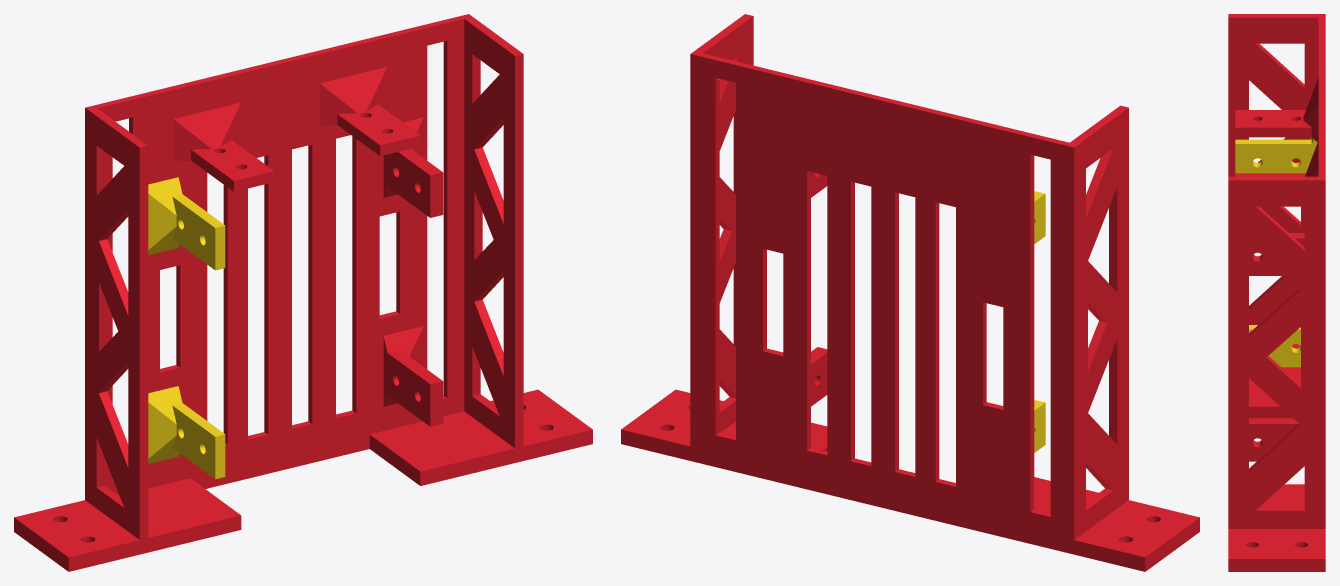
The model's file is tinker.obj.
3 views of the same model, side by side, from view 1: azimuth 30°, elevation 25°; view 2: azimuth 150°, elevation 25°; view 3: azimuth 270°, elevation 25° (orthographic). The views are drawn at different scales.
Parts seen in each view (by area): view 1: group_0_15277357, group_0_16768282; view 2: group_0_15277357, group_0_16768282; view 3: group_0_15277357, group_0_16768282.
Boxes of the visible parts, bbox=[...] form: group_0_15277357: bbox=[14, 14, 592, 571]; group_0_16768282: bbox=[148, 177, 225, 479]; group_0_15277357: bbox=[621, 14, 1199, 571]; group_0_16768282: bbox=[1034, 191, 1045, 452]; group_0_15277357: bbox=[1228, 14, 1325, 571]; group_0_16768282: bbox=[1235, 137, 1317, 367].
Size of the model in its own units: 155 by 115 by 28.
